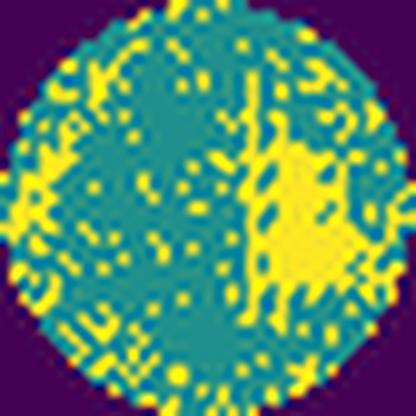Loc: (235, 69, 387, 331), (13, 110, 92, 245)
